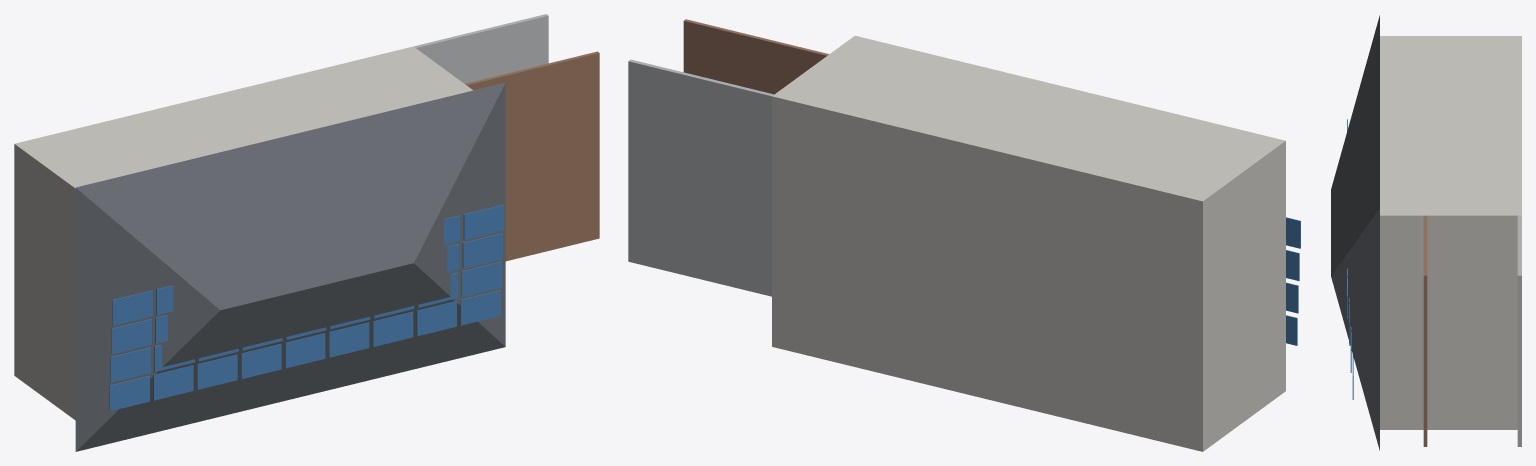
The model's file is generated_7398de49a6.glb.
3 views of the same model, side by side, from view 1: azimuth 30°, elevation 25°; view 2: azimuth 150°, elevation 25°; view 3: azimuth 270°, elevation 25° (orthographic). The views are drawn at different scales.
Visible parts, largest first — view 1: hip_roof, house_body, front_porch_roof, front_porch_slab, solar_panel_9, solar_panel_17, solar_panel_27, solar_panel, solar_panel_8, solar_panel_26, solar_panel_35, solar_panel_18 (+7 smaller); view 2: house_body, front_porch_slab, front_porch_roof; view 3: house_body, hip_roof, front_porch_slab, front_porch_roof.
Boxes of the visible parts, left/top/right/bottom form: hip_roof: left=75, top=82, right=505, bottom=451; house_body: left=14, top=46, right=472, bottom=420; front_porch_roof: left=465, top=51, right=599, bottom=261; front_porch_slab: left=413, top=14, right=548, bottom=83; solar_panel_9: left=110, top=347, right=150, bottom=382; solar_panel_17: left=461, top=261, right=501, bottom=296; solar_panel_27: left=112, top=290, right=152, bottom=325; solar_panel: left=109, top=375, right=149, bottom=411; solar_panel_8: left=460, top=290, right=500, bottom=325; solar_panel_26: left=462, top=233, right=502, bottom=268; solar_panel_35: left=463, top=204, right=503, bottom=240; solar_panel_18: left=111, top=319, right=151, bottom=354; house_body: left=772, top=35, right=1285, bottom=451; front_porch_slab: left=628, top=59, right=773, bottom=296; front_porch_roof: left=683, top=19, right=828, bottom=94; house_body: left=1380, top=36, right=1521, bottom=429; hip_roof: left=1331, top=15, right=1379, bottom=450; front_porch_slab: left=1517, top=215, right=1521, bottom=446; front_porch_roof: left=1423, top=215, right=1427, bottom=446.
Size of the model in its own units: 24.7 by 11.4 by 8.07.
